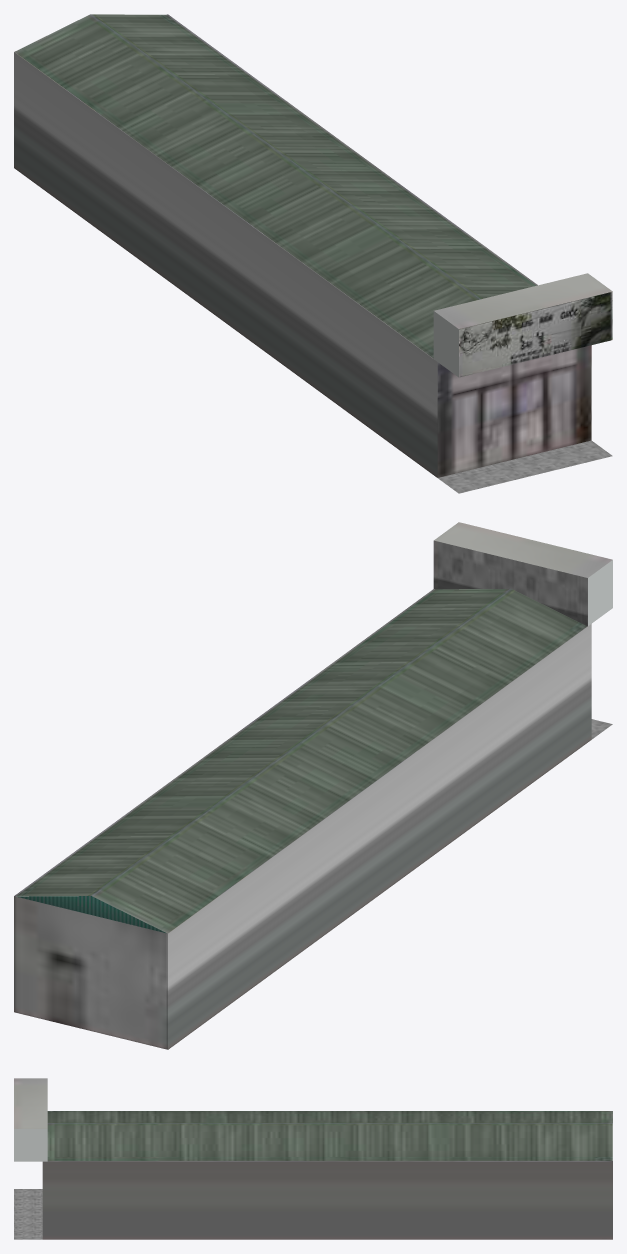
3 views of the same model, one above another, from view 1: azimuth 30°, elevation 25°; view 2: azimuth 150°, elevation 25°; view 3: azimuth 270°, elevation 25° (orthographic). The views are drawn at different scales.
Parts seen in each view (by area): view 1: 5d512268d0d5581a50c6846b.001; view 2: 5d512268d0d5581a50c6846b.001; view 3: 5d512268d0d5581a50c6846b.001.
Boxes of the visible parts, x1=… form: 5d512268d0d5581a50c6846b.001: x1=14, y1=14, x2=612, y2=493; 5d512268d0d5581a50c6846b.001: x1=14, y1=522, x2=612, y2=1049; 5d512268d0d5581a50c6846b.001: x1=14, y1=1078, x2=612, y2=1239.
Bounding box in the file's own units: 5 × 5.1 × 25.
1 material, 1 textured.
